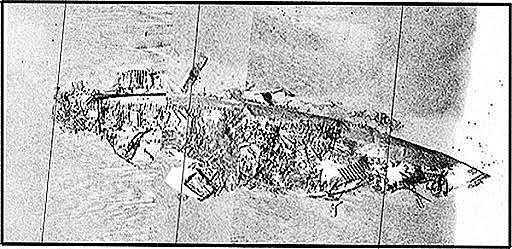ship: (63, 89, 492, 209)
